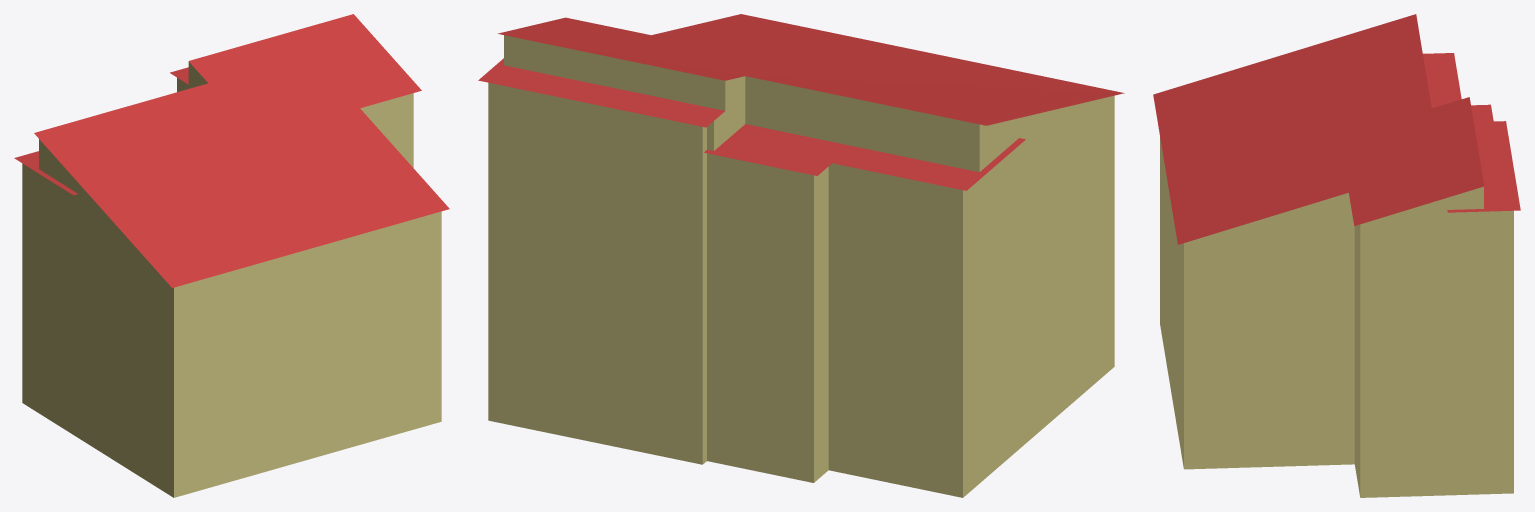
The picture shows the model from 3 angles, left to right: view 1: azimuth 30°, elevation 25°; view 2: azimuth 150°, elevation 25°; view 3: azimuth 270°, elevation 25°; orthographic projection. The views are drawn at different scales.
Bounding box in the file's own units: 17.19 × 14.22 × 13.26.
